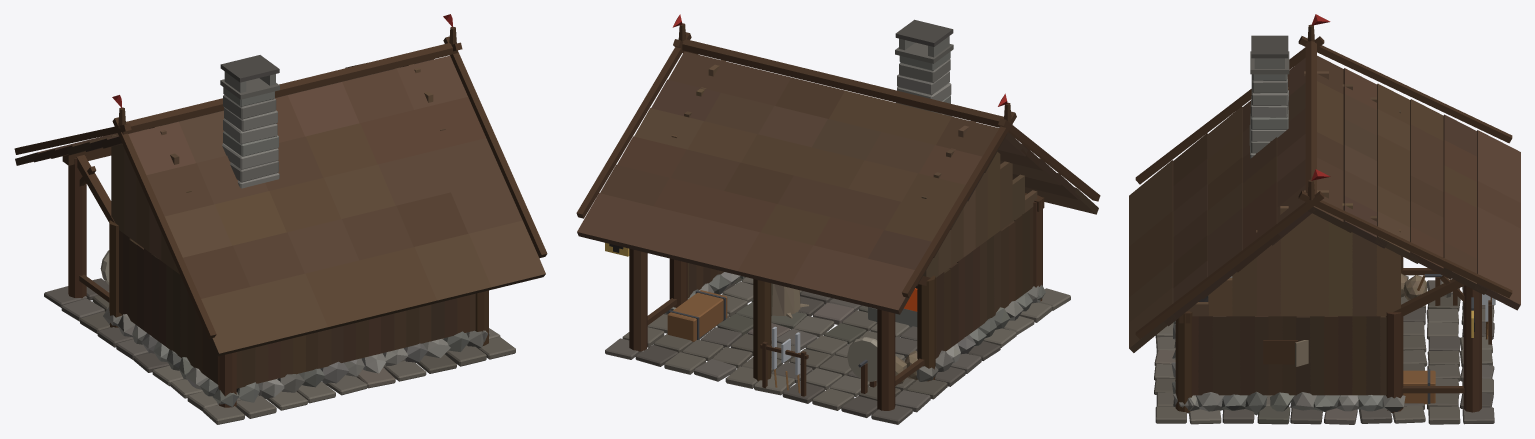
File: Smithy.glb
3 renders of one model, left to right at view 1: azimuth 30°, elevation 25°; view 2: azimuth 150°, elevation 25°; view 3: azimuth 270°, elevation 25°, orthographic. The views are drawn at different scales.
Visible parts, largest first — view 1: Mat_Wood_554639, Mat_Wood_433023, Mat_Stone_737069, Mat_Stone_5d5750, Mat_Wood_715f4c; view 2: Mat_Wood_554639, Mat_Wood_433023, Mat_Stone_5d5750, Mat_Stone_737069, Mat_Wood_715f4c; view 3: Mat_Wood_554639, Mat_Wood_433023, Mat_Stone_5d5750, Mat_Stone_737069, Mat_Wood_715f4c.
Boxes of the visible parts, x1,y1,x2,y2 form: Mat_Wood_554639: (80,55,545,407); Mat_Wood_433023: (14,26,547,388); Mat_Stone_737069: (100,71,500,411); Mat_Stone_5d5750: (44,55,515,424); Mat_Wood_715f4c: (356,355,425,388); Mat_Wood_554639: (577,51,1042,400); Mat_Wood_433023: (576,23,1100,410); Mat_Stone_5d5750: (605,19,1070,424); Mat_Stone_737069: (665,36,1051,395); Mat_Wood_715f4c: (653,284,917,393); Mat_Wood_554639: (1129,55,1520,412); Mat_Wood_433023: (1129,24,1520,412); Mat_Stone_5d5750: (1155,35,1494,424); Mat_Stone_737069: (1154,58,1495,424); Mat_Wood_715f4c: (1154,273,1488,409).
Size of the model in its own units: 17.2 by 14.29 by 17.95.
1 material, 1 textured.
